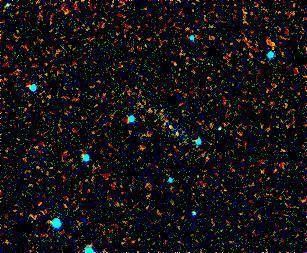star: (155, 116, 185, 146)
